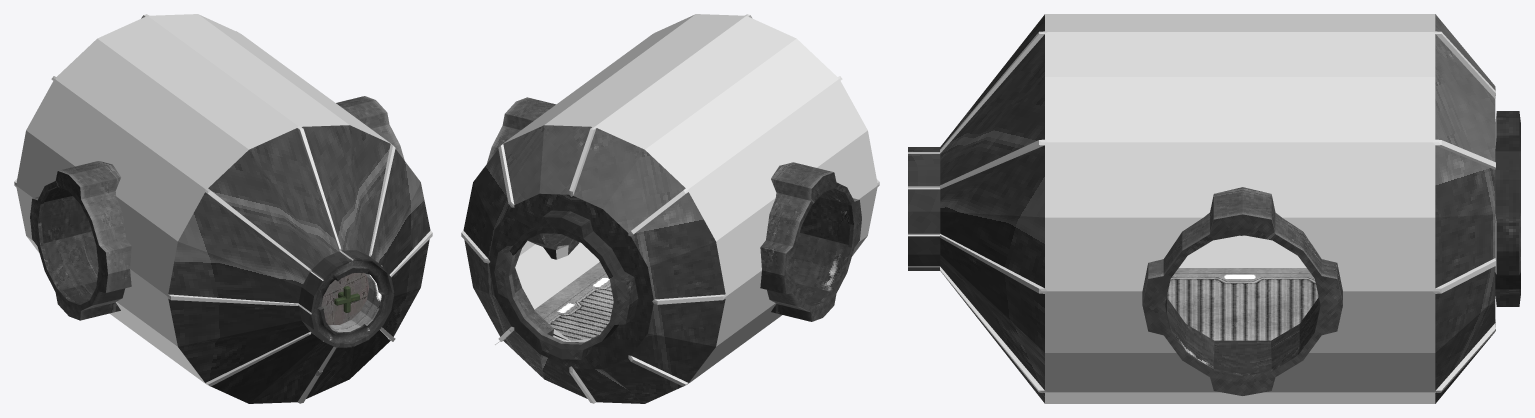
The model's file is station_module_lander.glb.
The picture shows the model from 3 angles, left to right: view 1: azimuth 30°, elevation 25°; view 2: azimuth 150°, elevation 25°; view 3: azimuth 270°, elevation 25°; orthographic projection. The views are drawn at different scales.
Visible parts, largest first — view 1: Station Module Lander; view 2: Station Module Lander; view 3: Station Module Lander.
Boxes of the visible parts, bbox=[...] form: Station Module Lander: bbox=[14, 14, 432, 403]; Station Module Lander: bbox=[461, 14, 879, 403]; Station Module Lander: bbox=[908, 14, 1520, 403].
Bounding box in the file's own units: 6.22 × 5.3 × 8.33.
Materials: 5 (4 with a texture image).
